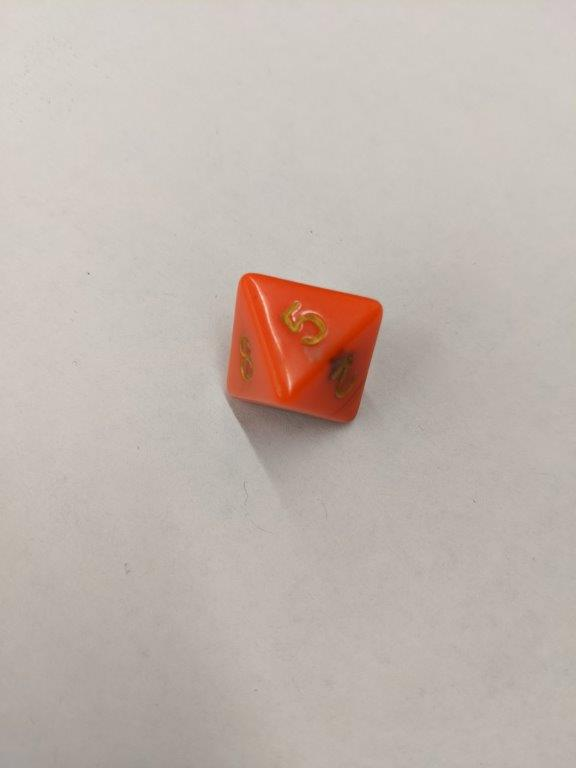d8-5: (222, 271, 384, 428)
